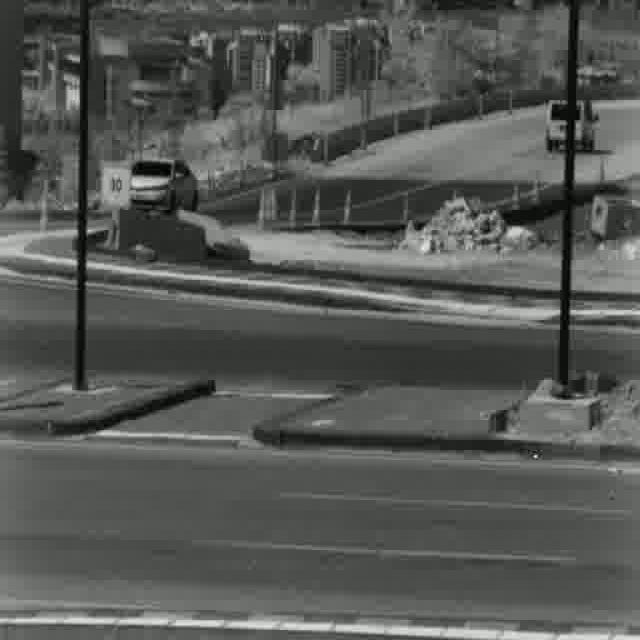Car: (130, 157, 199, 213), (544, 100, 594, 156)
